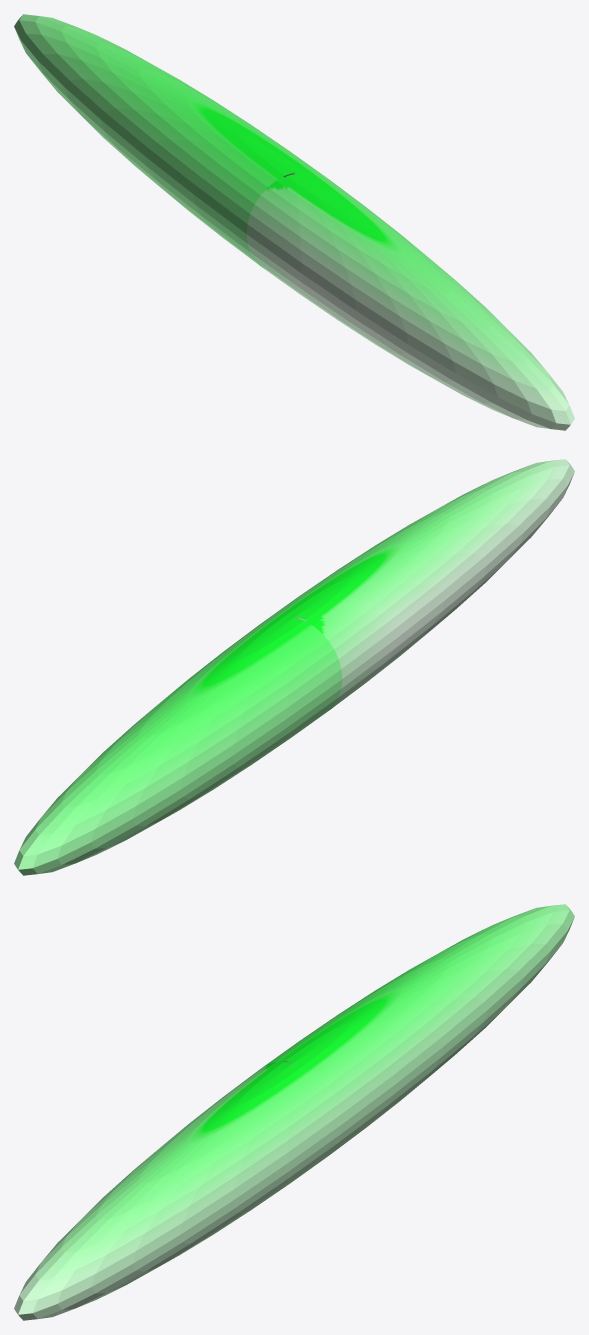
Rendered from laser_v1.fbx.
3 views of the same model, one above another, from view 1: azimuth 30°, elevation 25°; view 2: azimuth 150°, elevation 25°; view 3: azimuth 330°, elevation 25° (orthographic).
Parts seen in each view (by area): view 1: Sphere; view 2: Sphere; view 3: Sphere.
Boxes of the visible parts, x1=… form: Sphere: x1=14, y1=14, x2=574, y2=430; Sphere: x1=14, y1=459, x2=574, y2=875; Sphere: x1=14, y1=904, x2=574, y2=1320.
Size of the model in its own units: 20 by 200 by 20.
1 material, 1 textured.
